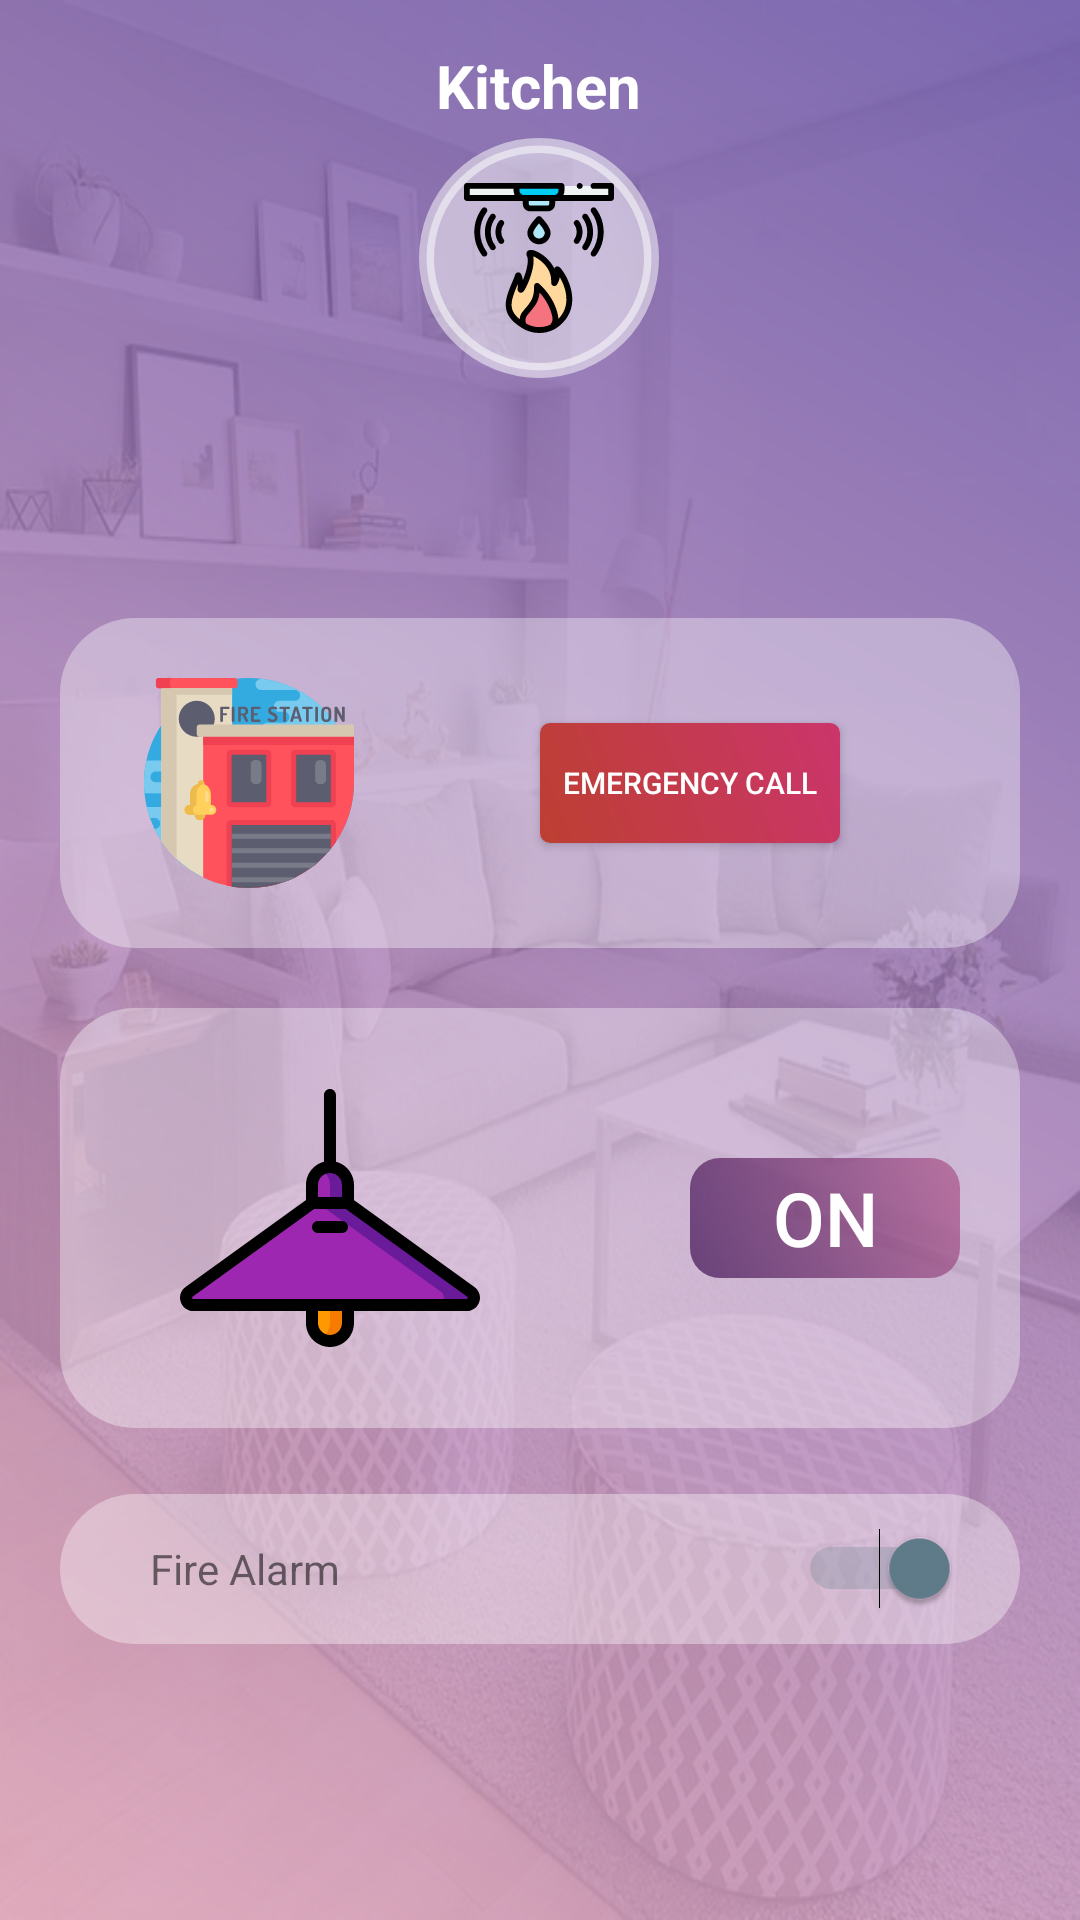

Named icons in this screenshot (1080*1920) and their bounding boxes, (x1, y1, x2, y2):
fire sensor: (419, 138, 659, 378)
lamp off: (180, 1068, 480, 1368)
